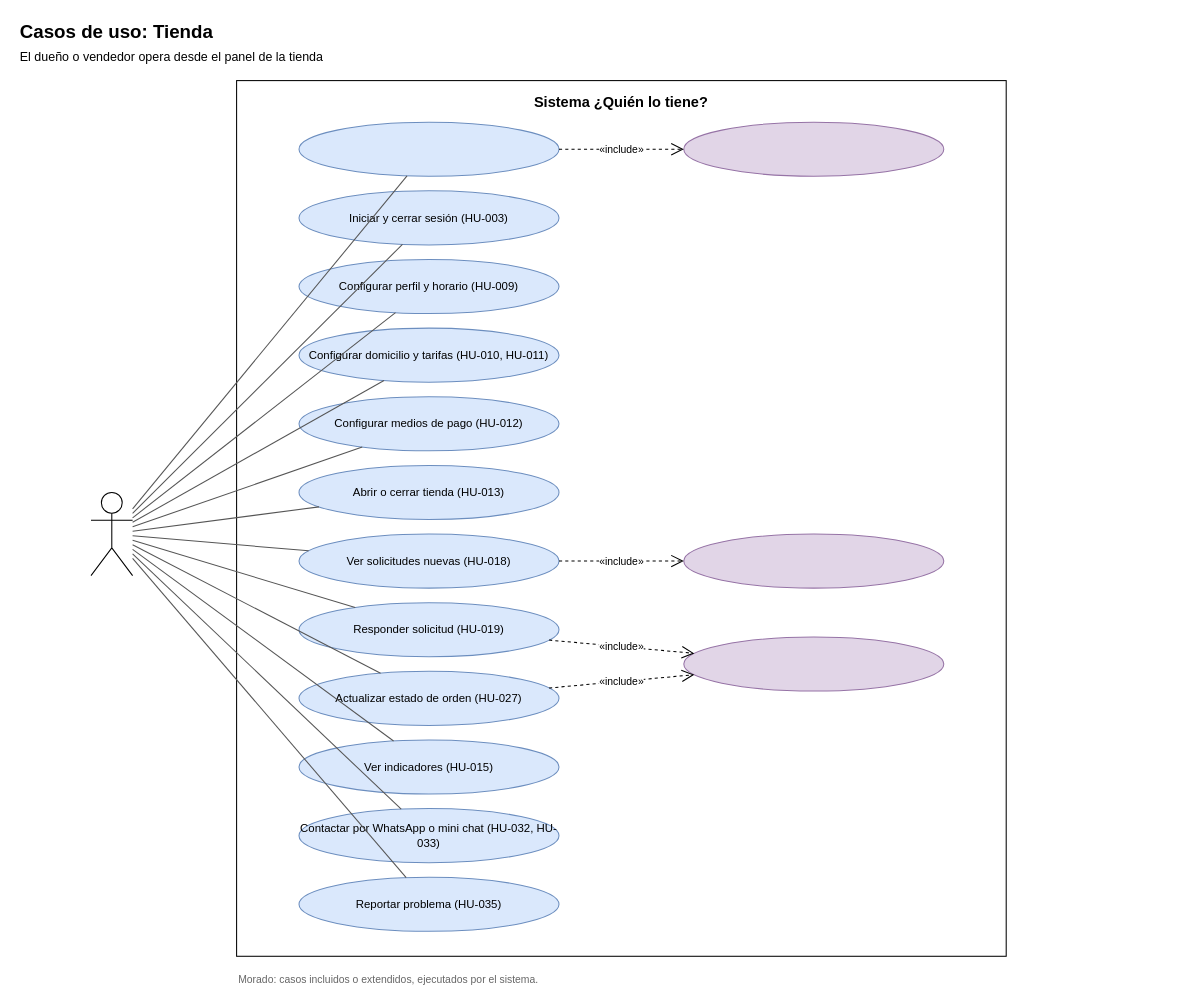
Some shapes in this 1179 by 1005 pixel diagram are drawn without their labels. Each missing label, with the box of its shape:
Aceptar política de datos (HU-005): (683, 121, 944, 176)
Notificar al cliente en tiempo real (HU-030): (683, 636, 944, 691)
Recibir notificaciones push (HU-031): (683, 533, 944, 588)
Registrar tienda con documentos (HU-002): (298, 121, 559, 176)
Tienda: (90, 491, 133, 576)
